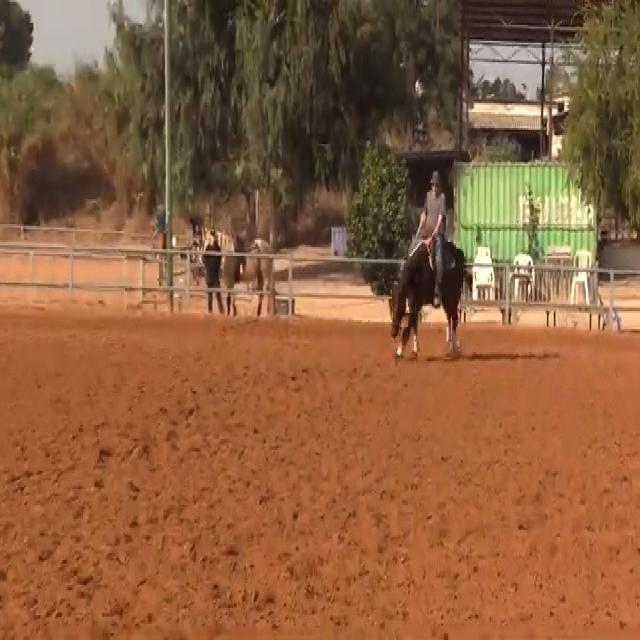horse: (387, 235, 467, 361)
